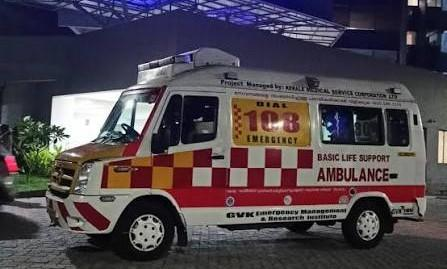ambulance: (47, 49, 425, 259)
